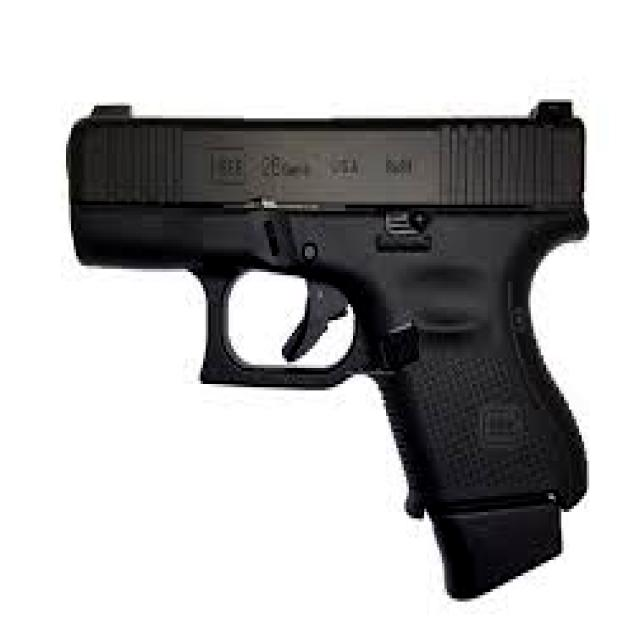semi automatic: (55, 74, 602, 612)
